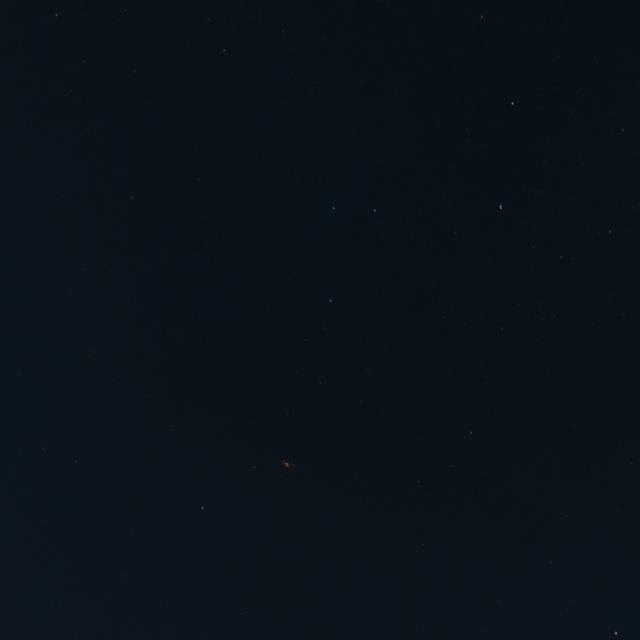Airaplan: (280, 461, 295, 469)
